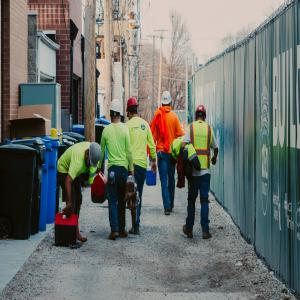blue: (85, 140, 102, 170)
red: (127, 98, 140, 120), (196, 105, 207, 122)
white: (110, 99, 123, 123), (162, 91, 173, 109)
